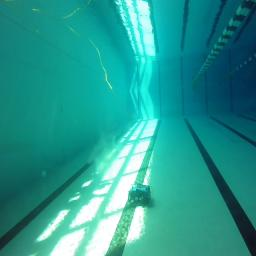Side: (128, 183, 151, 207)
